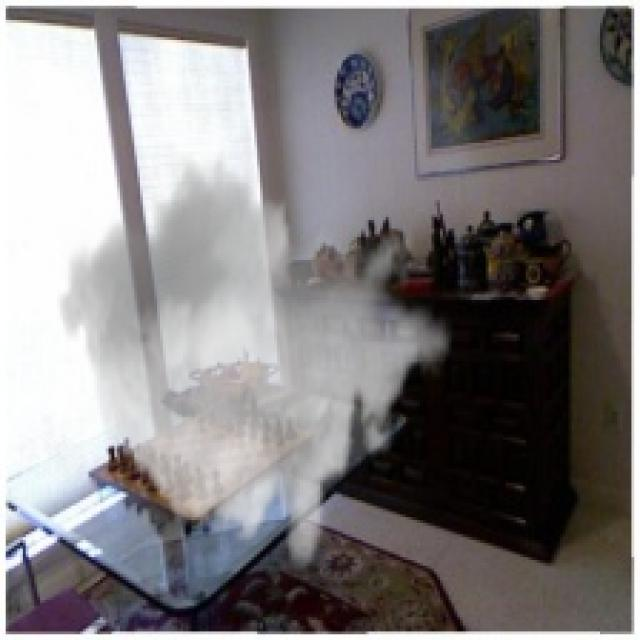smoke: (57, 152, 454, 574)
